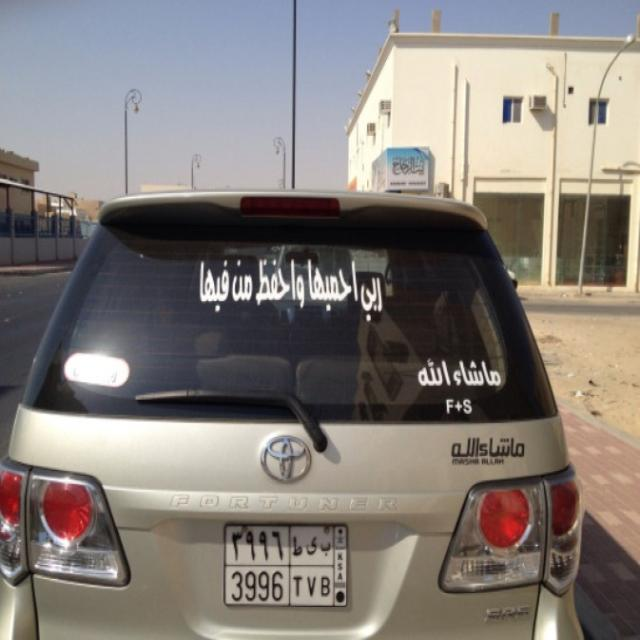license_plate: (222, 519, 350, 611)
